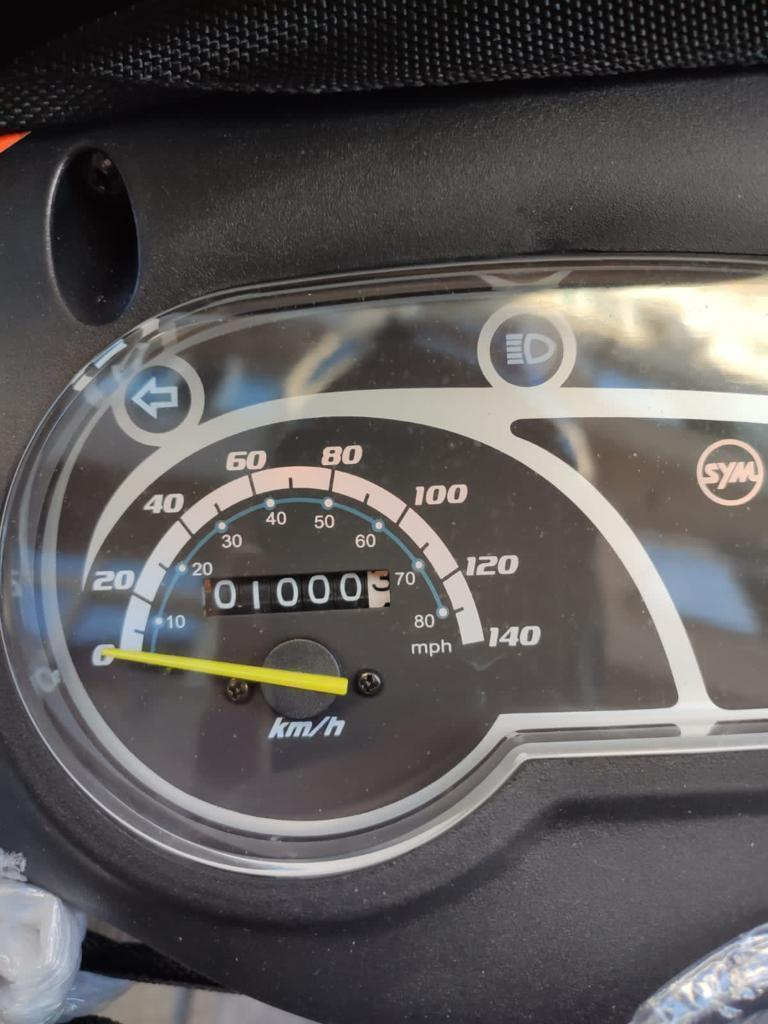0: (213, 578, 237, 609), (275, 576, 299, 607), (307, 574, 331, 604), (339, 571, 362, 602)
1: (251, 579, 261, 610)
3: (371, 565, 391, 591)
odometer: (199, 567, 391, 618)
